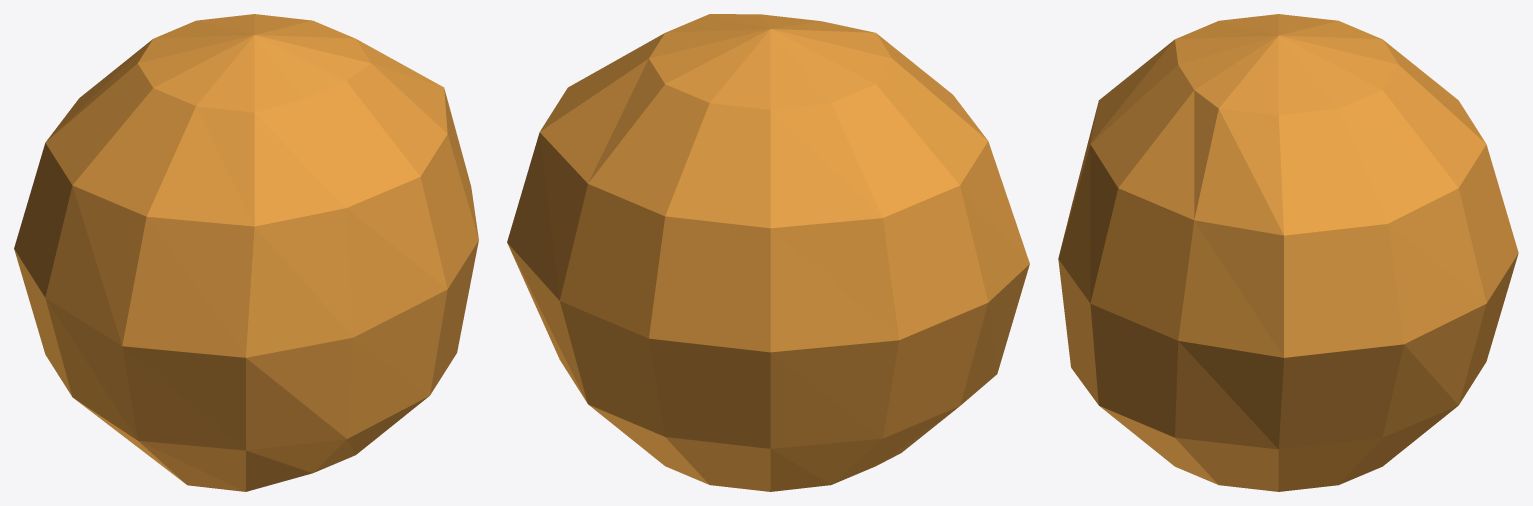
File: Cell_02.fbx
3 renders of one model, left to right at view 1: azimuth 30°, elevation 25°; view 2: azimuth 150°, elevation 25°; view 3: azimuth 270°, elevation 25°, orthographic. The views are drawn at different scales.
Parts seen in each view (by area): view 1: Cell_02; view 2: Cell_02; view 3: Cell_02.
Boxes of the visible parts, x1,y1,x2,y2 form: Cell_02: (14,14,478,491); Cell_02: (507,14,1029,491); Cell_02: (1058,14,1518,491).
Size of the model in its own units: 494 by 467 by 448.
